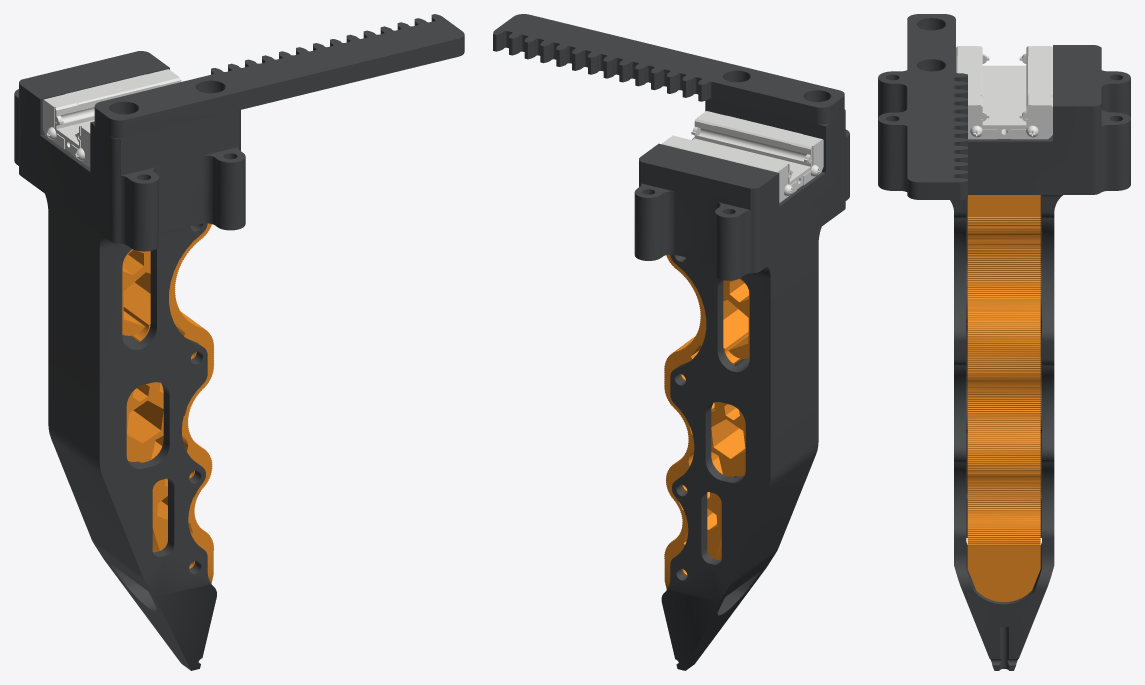
File: left_finger_link.glb
The picture shows the model from 3 angles, left to right: view 1: azimuth 30°, elevation 25°; view 2: azimuth 150°, elevation 25°; view 3: azimuth 270°, elevation 25°; orthographic projection. The views are drawn at different scales.
Visible parts, largest first — view 1: left_finger_link:finger_carrier_graphite, left_finger_link:soft_finger_orange, left_finger_link:silver_metal; view 2: left_finger_link:finger_carrier_graphite, left_finger_link:soft_finger_orange, left_finger_link:silver_metal; view 3: left_finger_link:finger_carrier_graphite, left_finger_link:soft_finger_orange, left_finger_link:silver_metal.
Boxes of the visible parts, x1=… form: left_finger_link:finger_carrier_graphite: x1=14, y1=14, x2=464, y2=670; left_finger_link:soft_finger_orange: x1=122, y1=223, x2=213, y2=583; left_finger_link:silver_metal: x1=42, y1=69, x2=181, y2=167; left_finger_link:finger_carrier_graphite: x1=493, y1=14, x2=849, y2=670; left_finger_link:soft_finger_orange: x1=664, y1=254, x2=749, y2=589; left_finger_link:silver_metal: x1=662, y1=111, x2=823, y2=202; left_finger_link:finger_carrier_graphite: x1=878, y1=14, x2=1130, y2=670; left_finger_link:soft_finger_orange: x1=967, y1=195, x2=1040, y2=602; left_finger_link:silver_metal: x1=956, y1=46, x2=1052, y2=139.
Size of the model in its own units: 0.0827 by 0.1351 by 0.052.
